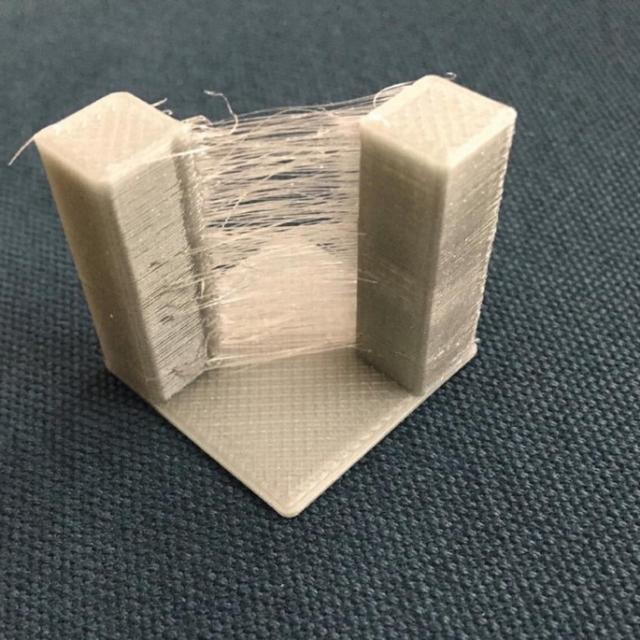Stringing: (174, 72, 371, 375)
